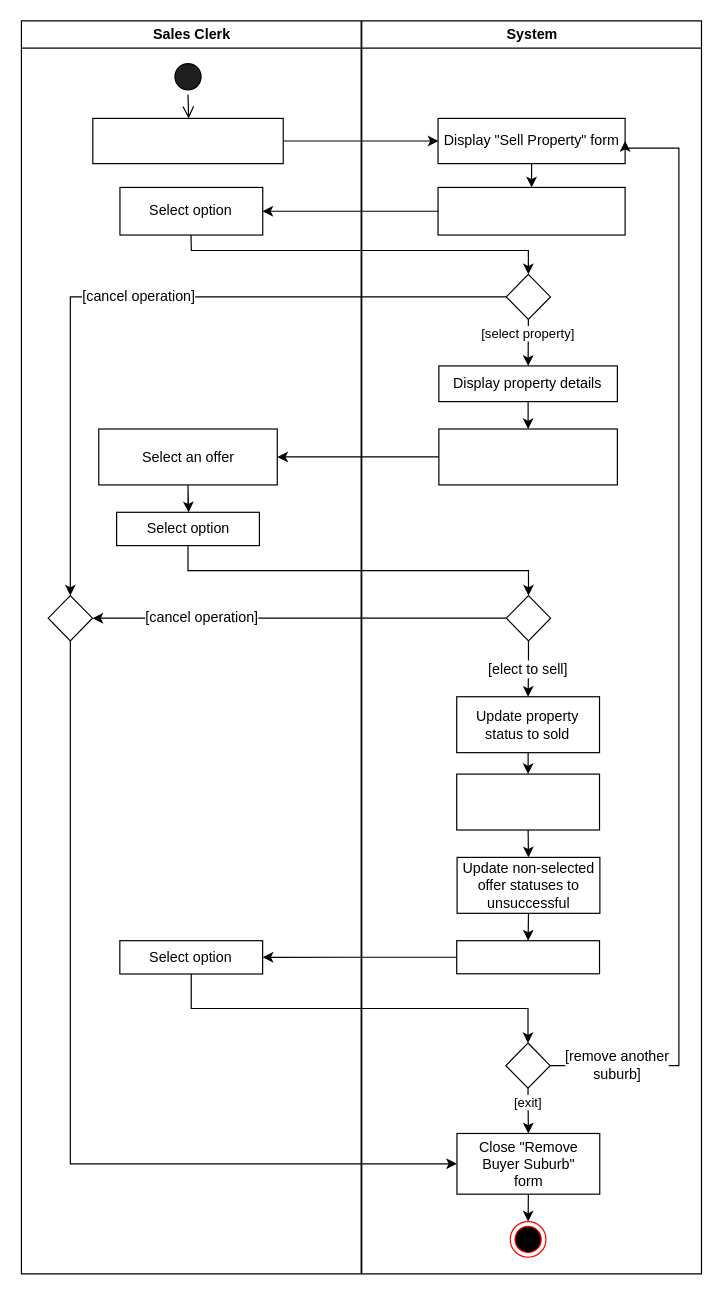
The diagram is 722 pixels wide and 1295 high, and some of its shapes have lost their labels. The shapes that lost their labels are listed below. From the top down, each one's centre as x and y in pixels, then its label:
the point at 187,140: Select "Sell Property" option
the point at 531,210: List all available properties that have offers
the point at 527,456: Display list of property's offers
the point at 528,801: Update offer status to successful
the point at 528,957: Display exit prompt
